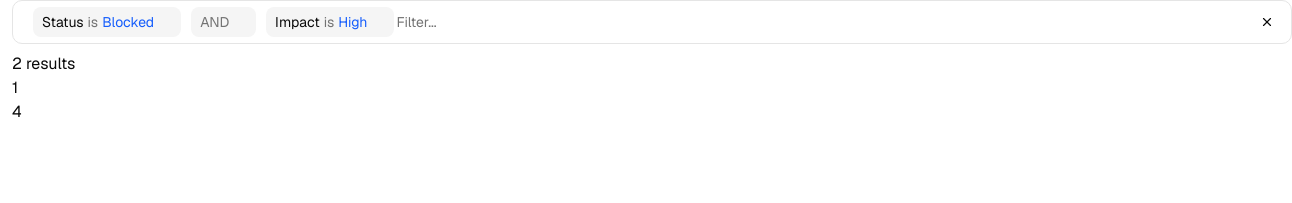
it: Filter Flow Integration › clear all: click × → all gone → empty state
Expected: the text with test id "result-count" reads "2 results", x1=12 y1=53 x2=75 y2=74
Click the button named "Clear all filters" at (1267, 22), box x1=1255 y1=10 x2=1279 y2=34
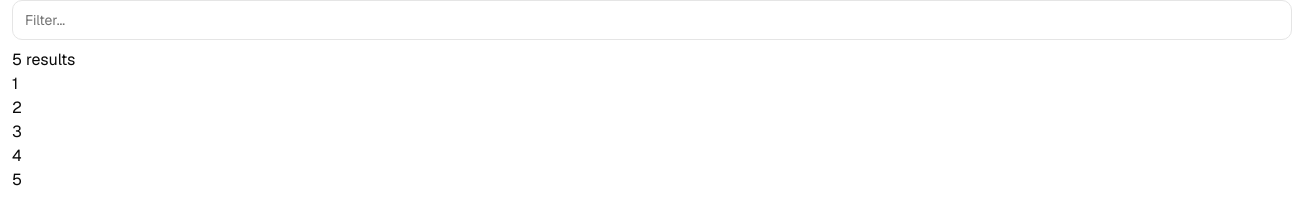
Expected: the field with placeholder "Filter..." is shown, x1=25 y1=10 x2=1279 y2=30
Result: the text with test id "result-count" reads "5 results" at x1=12 y1=49 x2=76 y2=70
